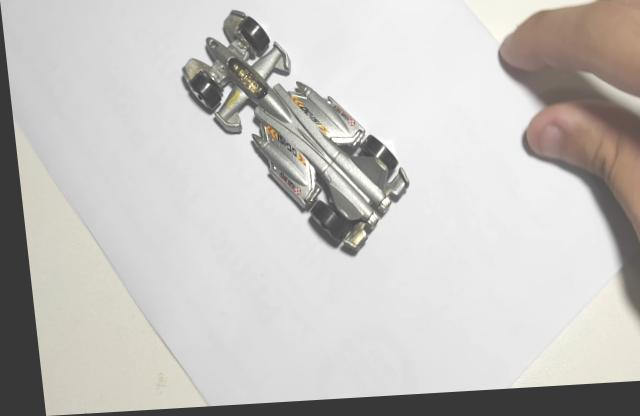05_DC121: (178, 14, 405, 263)
